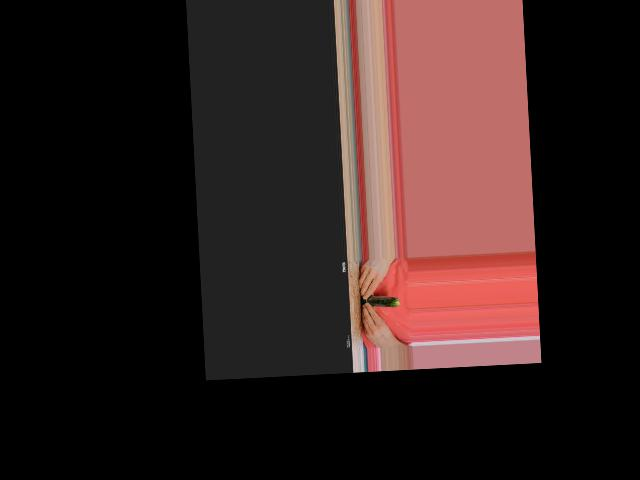cucumber: (360, 294, 399, 309)
